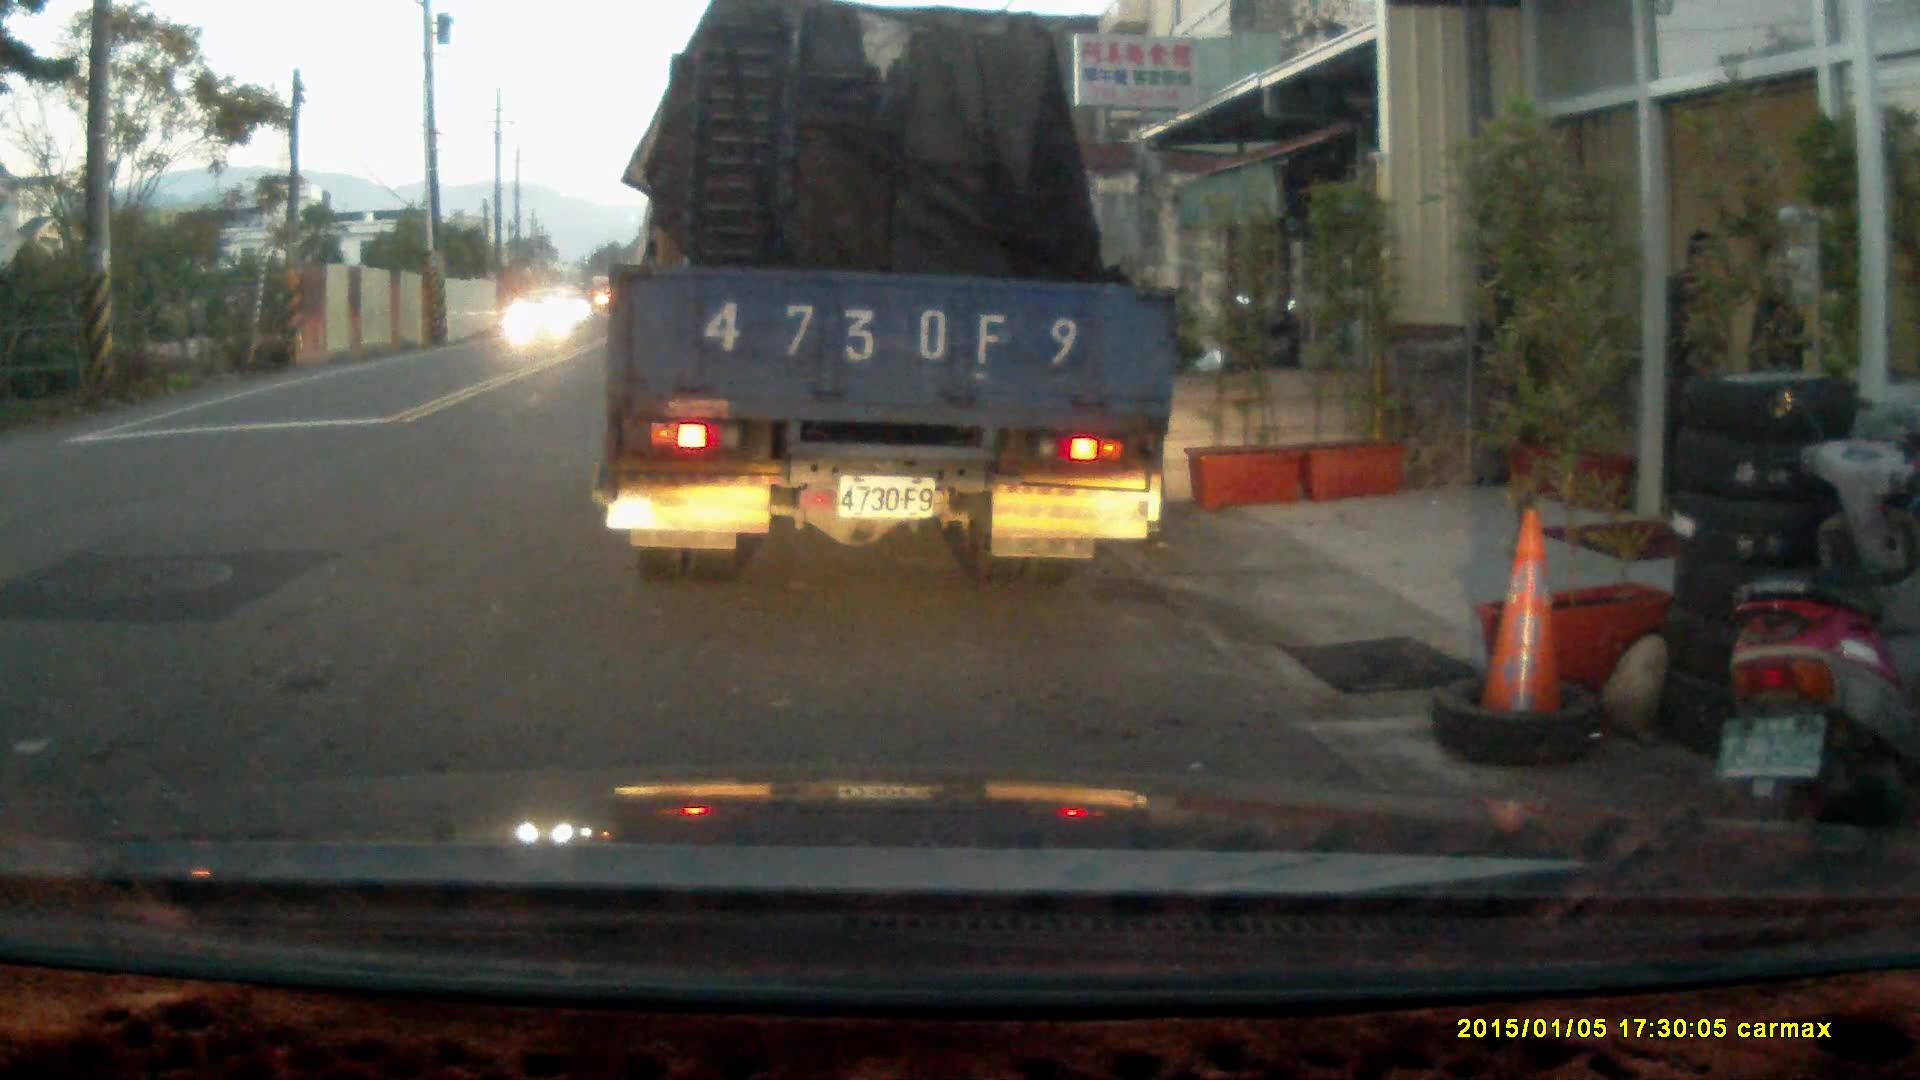pedestrian: (1656, 228, 1736, 478), (1745, 231, 1811, 447)
vehicle: (605, 23, 1188, 572)
